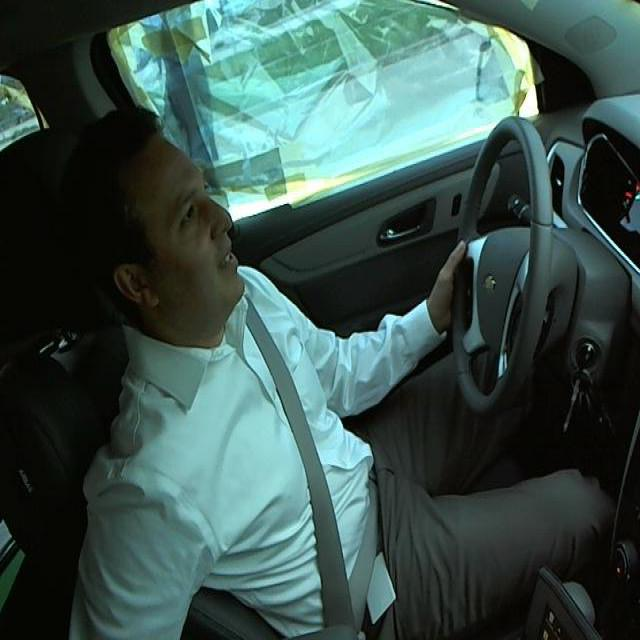seatbelt: (243, 301, 362, 639)
